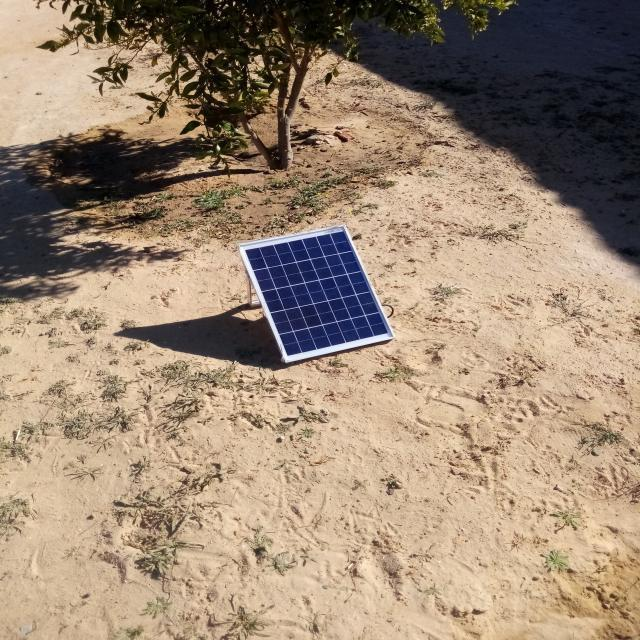Normal Solar Panel: (237, 225, 395, 362)
